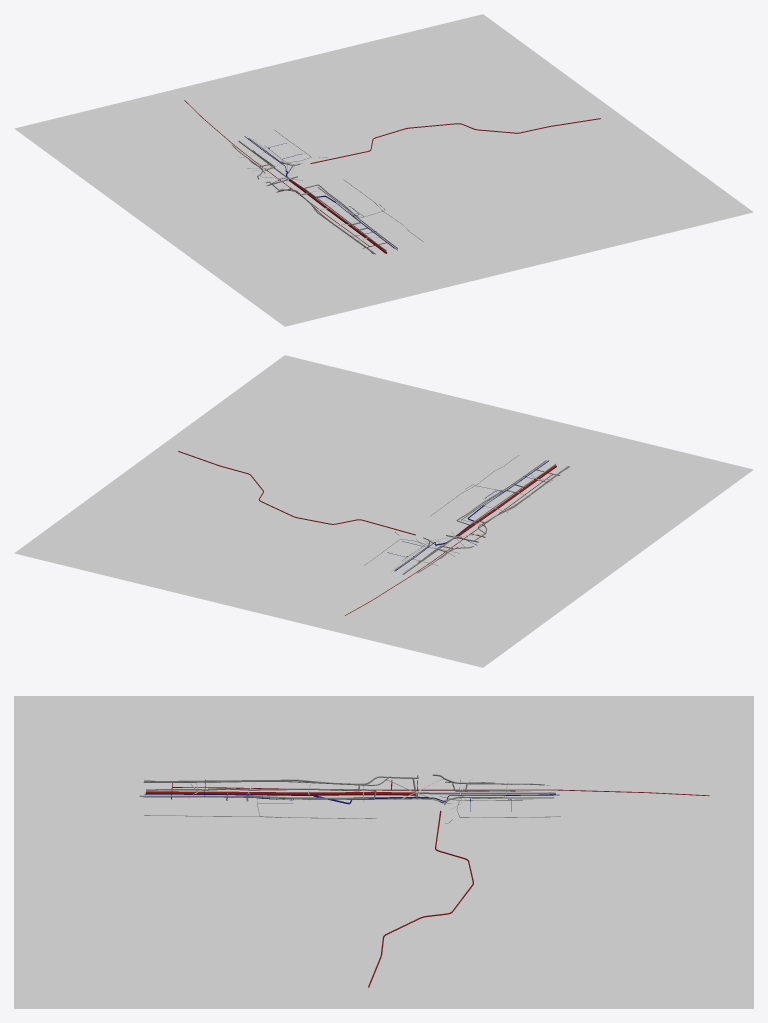
The model's file is 管道及地面.fbx.
3 views of the same model, one above another, from view 1: azimuth 30°, elevation 25°; view 2: azimuth 150°, elevation 25°; view 3: azimuth 270°, elevation 25° (orthographic). The views are drawn at different scales.
Parts seen in each view (by area): view 1: 平面, pipeline_7; view 2: 平面, pipeline_7; view 3: 平面, pipeline_7, pipeline_11, pipeline_8, pipeline_4, pipeline_3, pipeline_1.
Part boxes in pixels (x1=…): 平面: x1=14, y1=14, x2=753, y2=326; pipeline_7: x1=248, y1=150, x2=397, y2=254; 平面: x1=14, y1=355, x2=753, y2=667; pipeline_7: x1=418, y1=460, x2=569, y2=562; 平面: x1=14, y1=696, x2=753, y2=1008; pipeline_7: x1=143, y1=774, x2=515, y2=805; pipeline_11: x1=139, y1=777, x2=554, y2=798; pipeline_8: x1=145, y1=791, x2=415, y2=795; pipeline_4: x1=171, y1=783, x2=709, y2=799; pipeline_3: x1=144, y1=779, x2=559, y2=811; pipeline_1: x1=144, y1=796, x2=560, y2=823.
Bounding box in the file's own units: 53887 × 830 × 53887.
5 materials, 4 textured.
